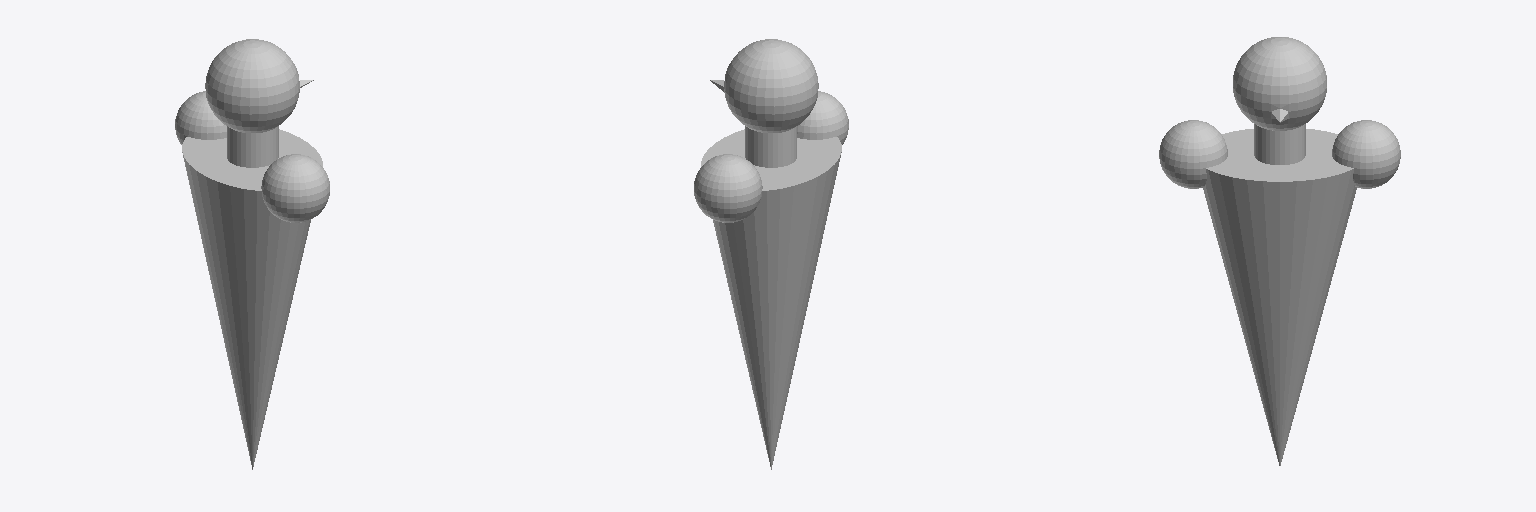
Rendered from person.obj.
3 renders of one model, left to right at view 1: azimuth 30°, elevation 25°; view 2: azimuth 150°, elevation 25°; view 3: azimuth 270°, elevation 25°, orthographic.
Visible parts, largest first — view 1: Cone, Sphere.002; view 2: Cone, Sphere.002; view 3: Cone, Sphere.002.
Part boxes in pixels (left/top/right/bottom): Cone: left=175, top=40, right=329, bottom=469; Sphere.002: left=205, top=39, right=289, bottom=117; Cone: left=694, top=39, right=848, bottom=469; Sphere.002: left=724, top=41, right=817, bottom=132; Cone: left=1159, top=37, right=1400, bottom=465; Sphere.002: left=1247, top=37, right=1326, bottom=130.
Bounding box in the file's own units: 1.59 × 5.45 × 2.8.